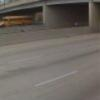buses: (0, 15, 35, 28)
